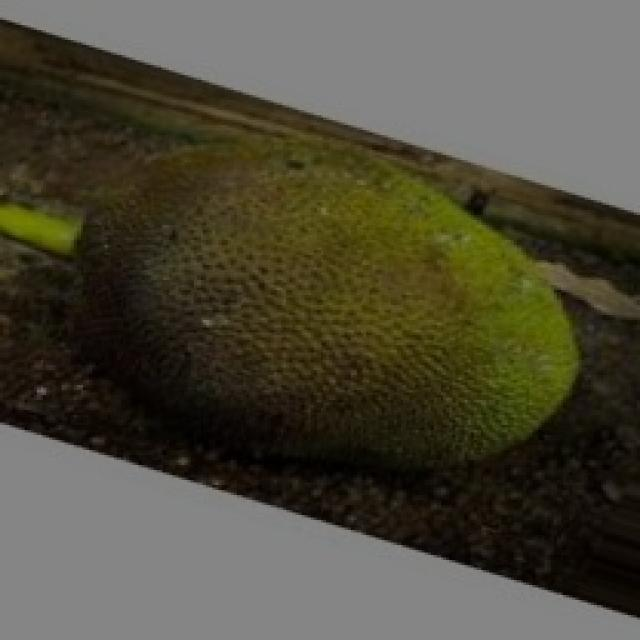Fruit: (256, 115, 618, 513)
